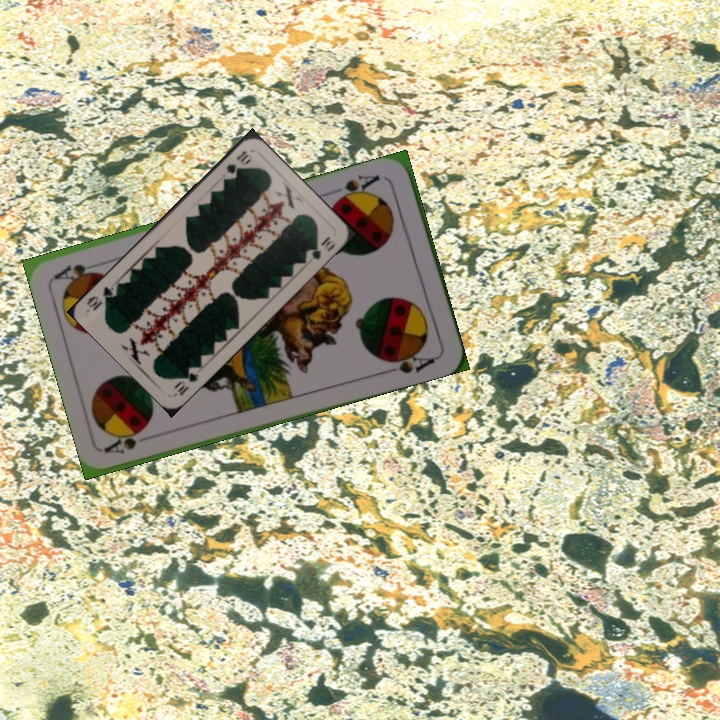G10: (170, 362, 202, 398), (222, 146, 250, 177)
SA: (102, 426, 160, 457), (332, 170, 383, 205)
